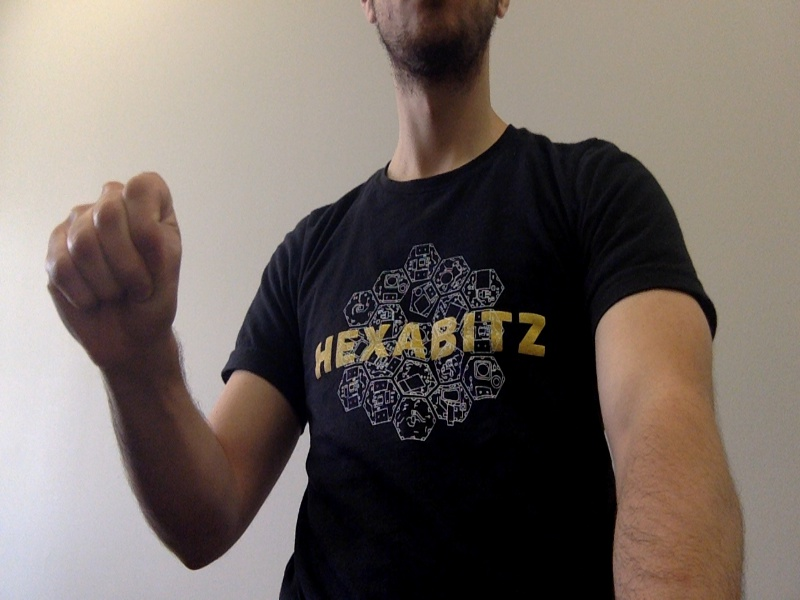0-hand: (47, 171, 182, 355)
